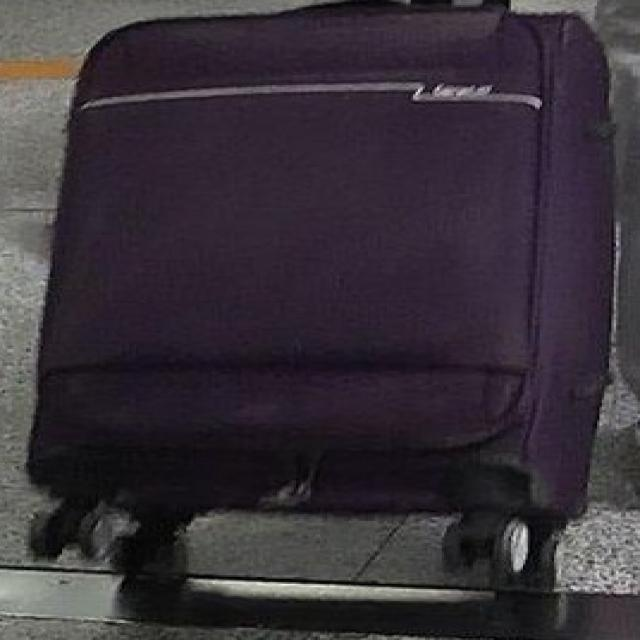luggage: (14, 0, 638, 639)
